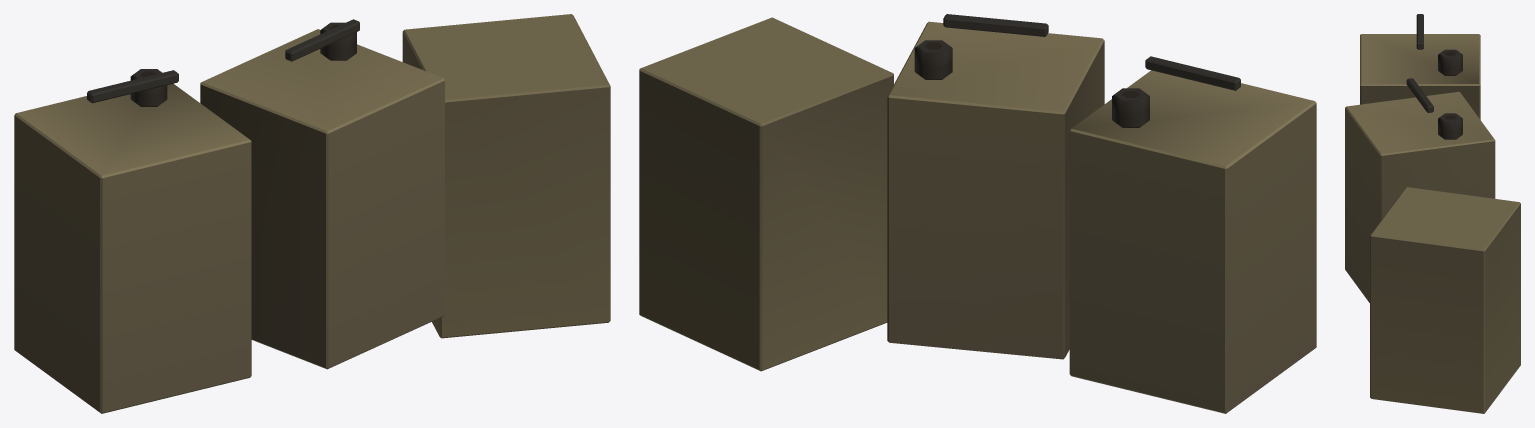
The model's file is tins.glb.
The picture shows the model from 3 angles, left to right: view 1: azimuth 30°, elevation 25°; view 2: azimuth 150°, elevation 25°; view 3: azimuth 270°, elevation 25°; orthographic projection. The views are drawn at different scales.
Visible parts, largest first — view 1: dark-001; view 2: dark-001; view 3: dark-001.
Boxes of the visible parts, x1=… form: dark-001: x1=14, y1=14, x2=610, y2=413; dark-001: x1=639, y1=14, x2=1316, y2=413; dark-001: x1=1345, y1=14, x2=1520, y2=413.
Size of the model in its own units: 0.8898 by 0.4875 by 0.3491.
